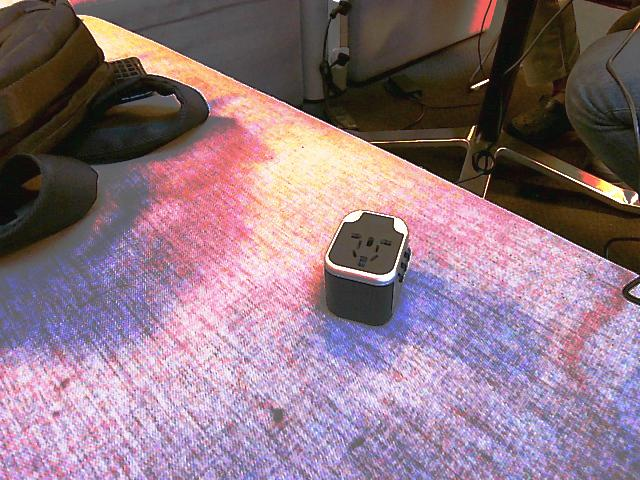adapter: (322, 208, 411, 326)
